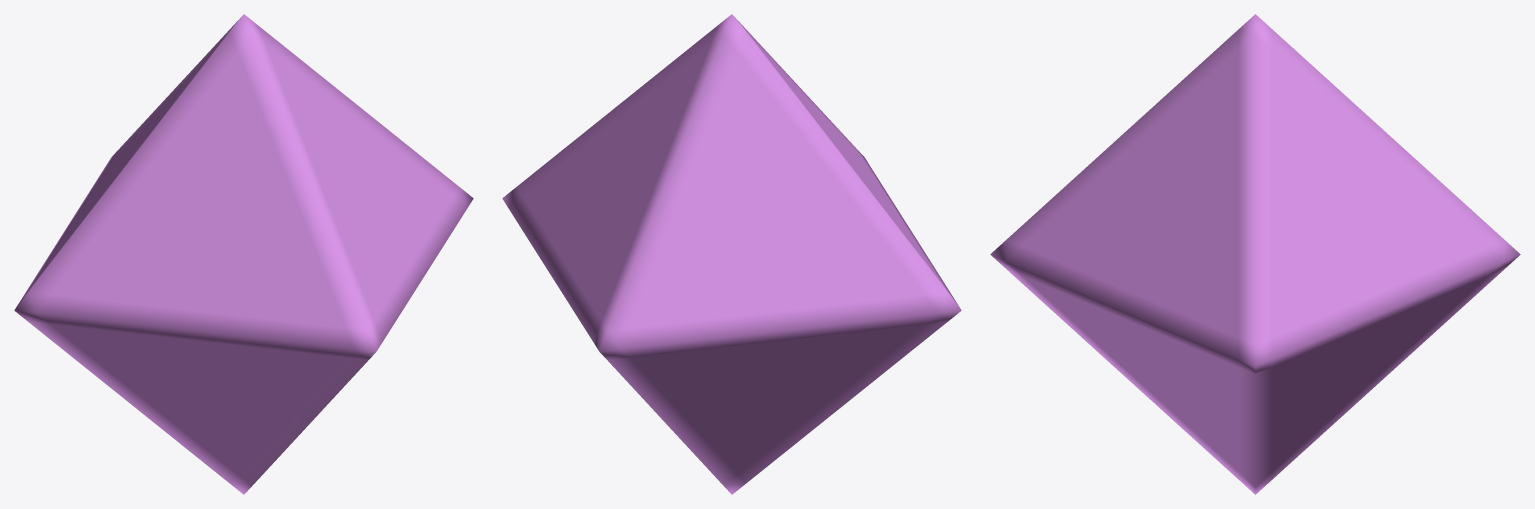
The picture shows the model from 3 angles, left to right: view 1: azimuth 30°, elevation 25°; view 2: azimuth 150°, elevation 25°; view 3: azimuth 270°, elevation 25°; orthographic projection.
Visible parts, largest first — view 1: d8; view 2: d8; view 3: d8.
Boxes of the visible parts, x1=… form: d8: x1=14, y1=14, x2=473, y2=494; d8: x1=502, y1=14, x2=961, y2=494; d8: x1=990, y1=14, x2=1520, y2=494.
Bounding box in the file's own units: 200 × 200 × 200.
